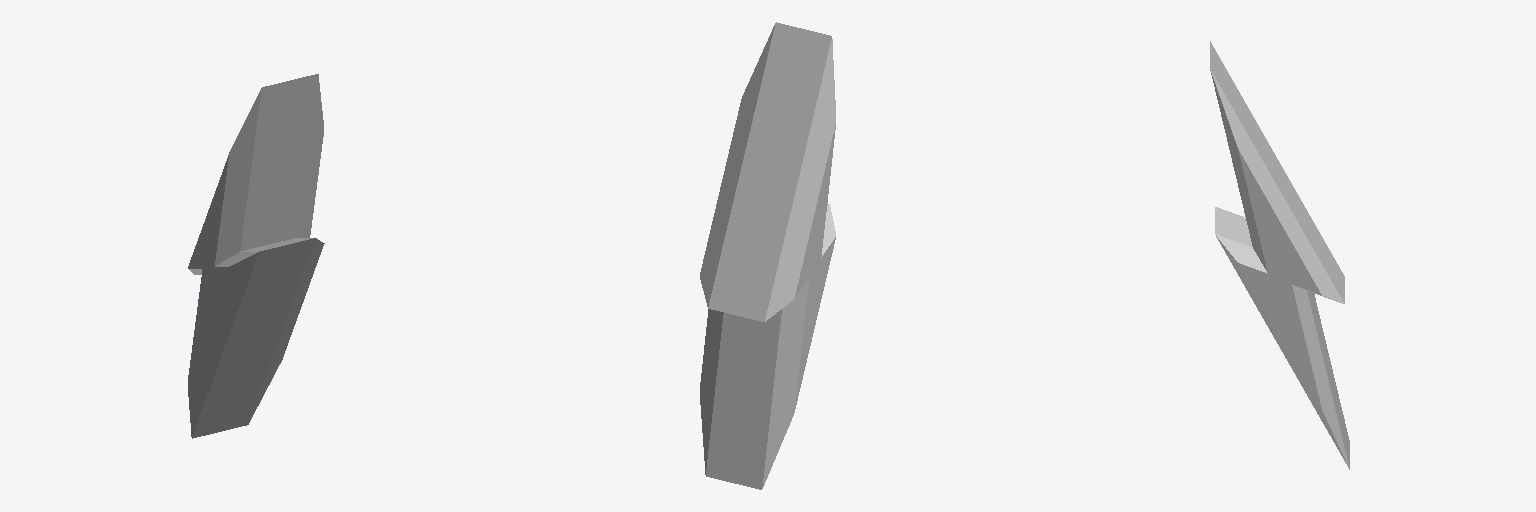
The model's file is speed2.obj.
3 views of the same model, side by side, from view 1: azimuth 30°, elevation 25°; view 2: azimuth 150°, elevation 25°; view 3: azimuth 270°, elevation 25° (orthographic).
Parts seen in each view (by area): view 1: Speed; view 2: Speed; view 3: Speed.
Part boxes in pixels (x1,y1,x2,y2): Speed: (188, 74, 324, 438); Speed: (700, 22, 835, 489); Speed: (1210, 41, 1349, 469).
Bounding box in the file's own units: 0.3222 × 1.31 × 0.4128.